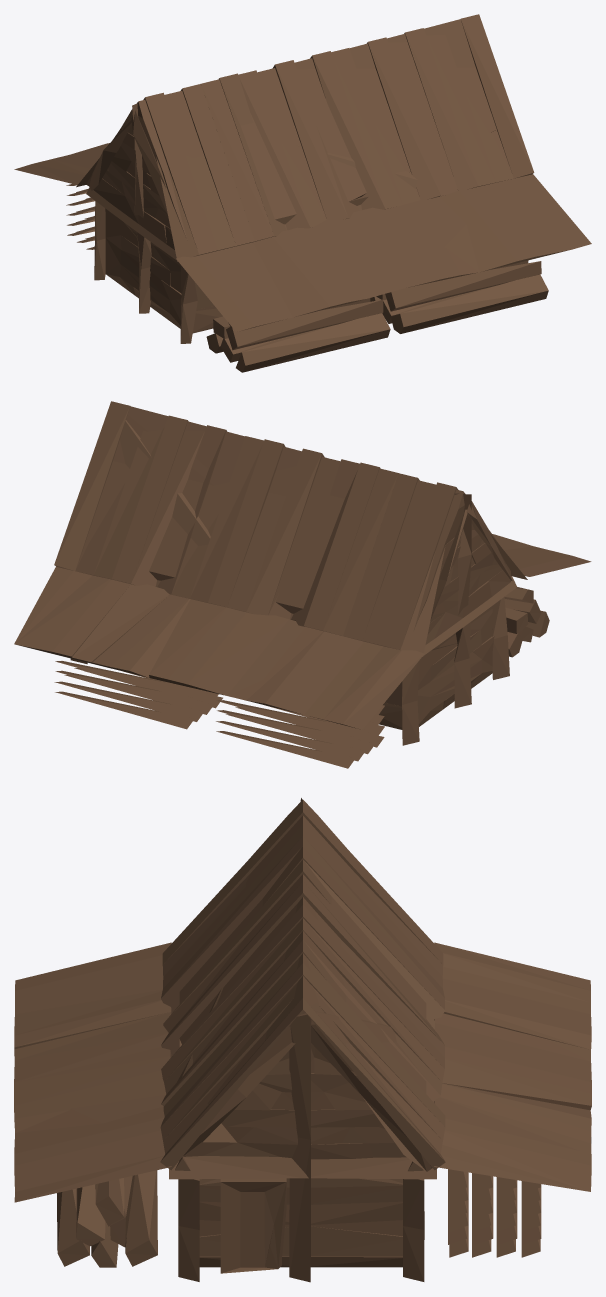
Rendered from sawmill.lod1.glb.
3 views of the same model, one above another, from view 1: azimuth 30°, elevation 25°; view 2: azimuth 150°, elevation 25°; view 3: azimuth 270°, elevation 25° (orthographic). The views are drawn at different scales.
Parts seen in each view (by area): view 1: Sawmill_Default_0; view 2: Sawmill_Default_0; view 3: Sawmill_Default_0.
Part boxes in pixels (x1=…): Sawmill_Default_0: x1=14, y1=14, x2=591, y2=372; Sawmill_Default_0: x1=14, y1=401, x2=591, y2=768; Sawmill_Default_0: x1=14, y1=798, x2=591, y2=1282.
Size of the model in its own units: 10.48 by 6.04 by 11.4.
